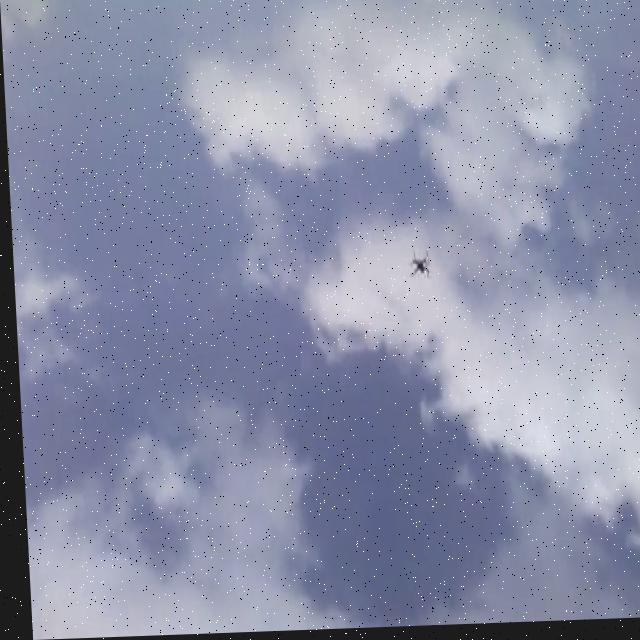drone: (404, 255, 431, 286)
